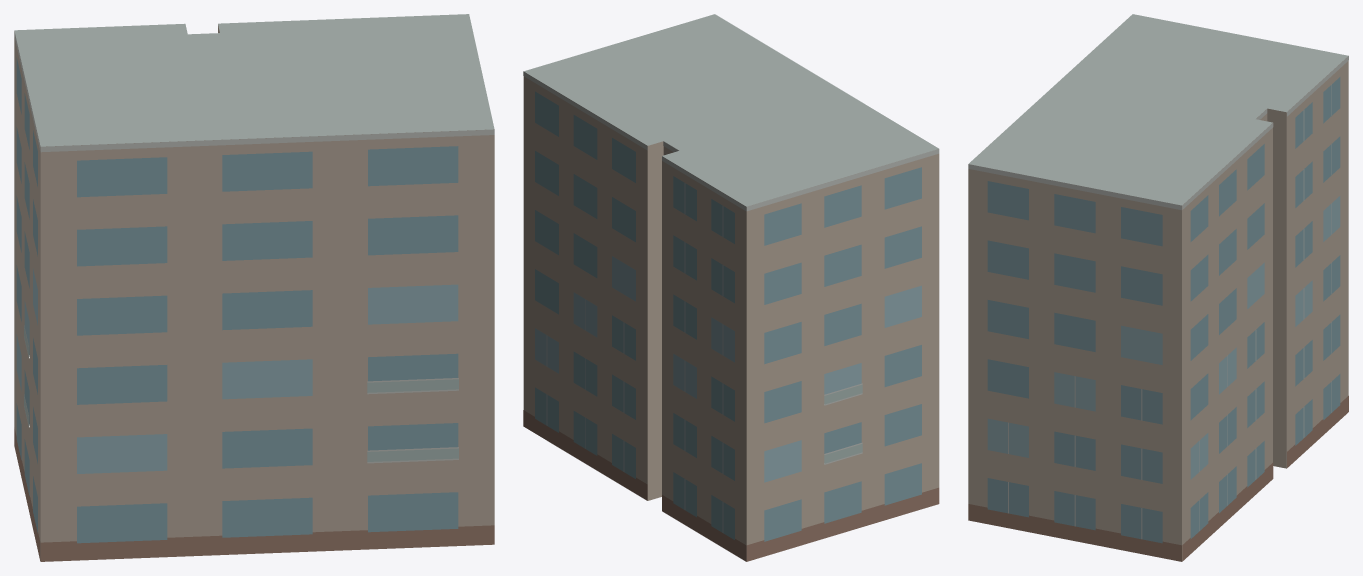
Rendered from survey-upis-32662226.glb.
3 renders of one model, left to right at view 1: azimuth 30°, elevation 25°; view 2: azimuth 150°, elevation 25°; view 3: azimuth 270°, elevation 25°, orthographic. The views are drawn at different scales.
Parts seen in each view (by area): view 1: survey-upis-32662226.tmp; view 2: survey-upis-32662226.tmp; view 3: survey-upis-32662226.tmp.
Part boxes in pixels (left/top/right/bottom): survey-upis-32662226.tmp: left=14, top=14, right=494, bottom=561; survey-upis-32662226.tmp: left=523, top=14, right=939, bottom=561; survey-upis-32662226.tmp: left=968, top=14, right=1348, bottom=561.
Size of the model in its own units: 21.11 by 18.3 by 17.72.
